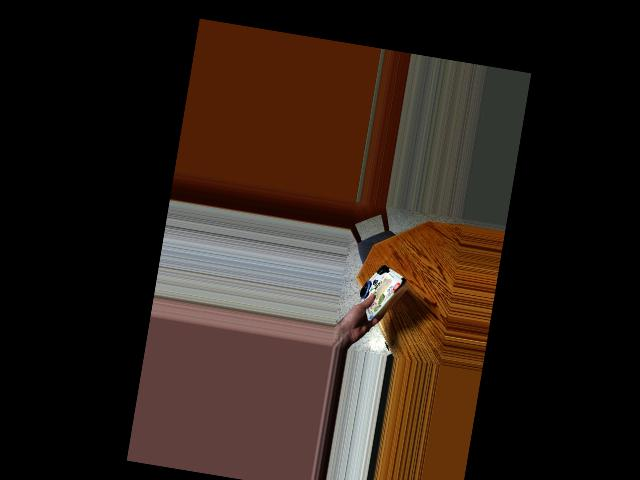cheese: (355, 257, 420, 323)
